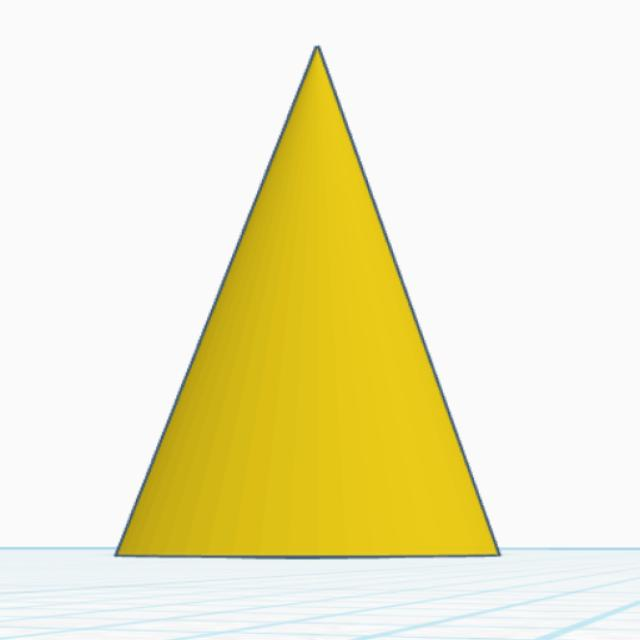cone: (108, 41, 507, 562)
